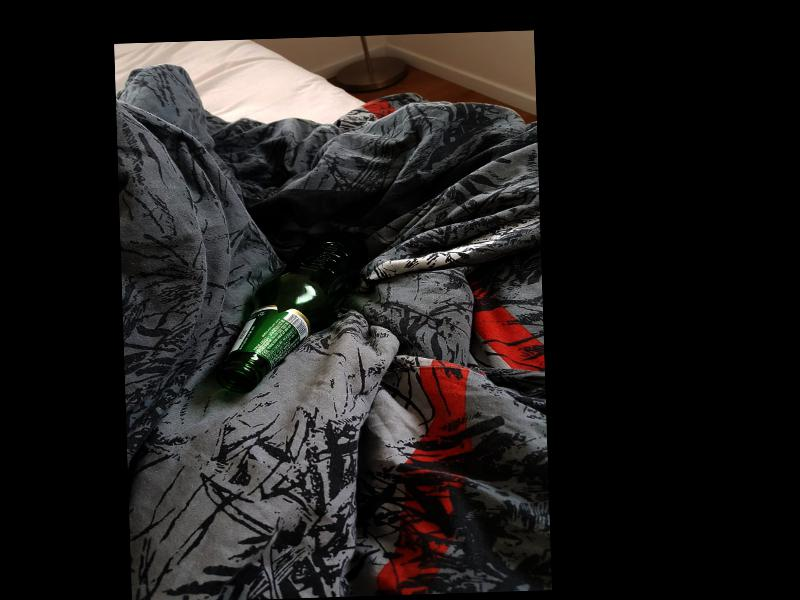Beer: (214, 230, 372, 395)
